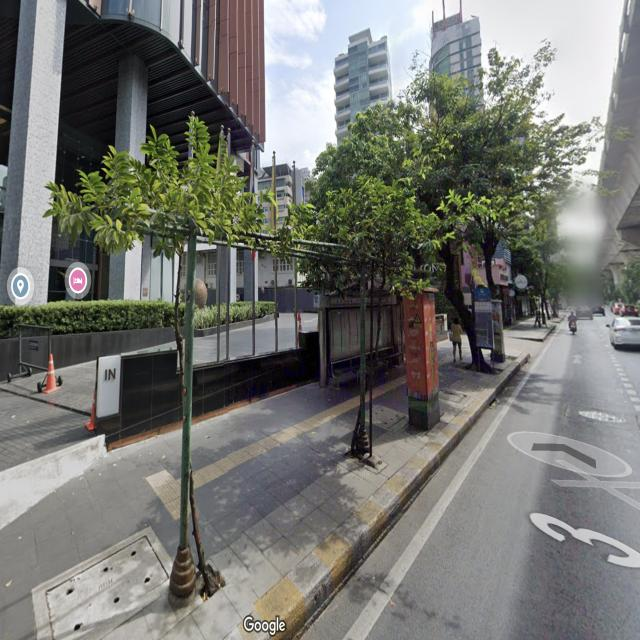tree: (51, 106, 285, 618), (298, 94, 448, 506), (426, 48, 570, 353), (378, 88, 486, 390)
